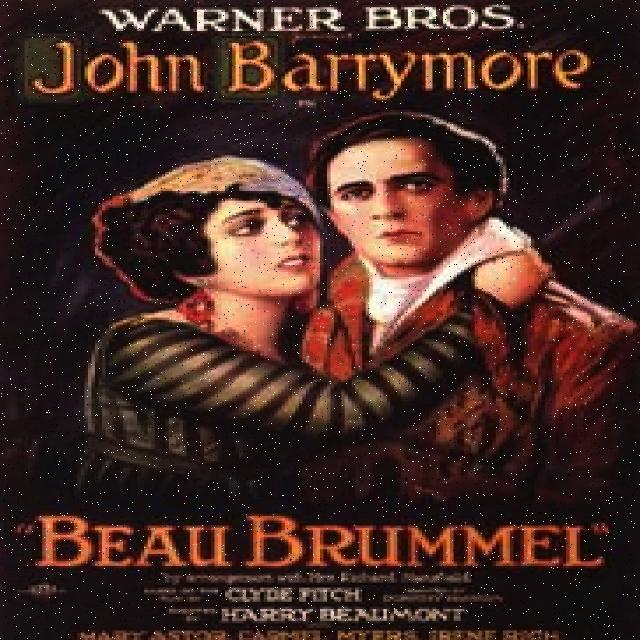movie-judul: (30, 501, 617, 582)
picture: (25, 107, 622, 501)
